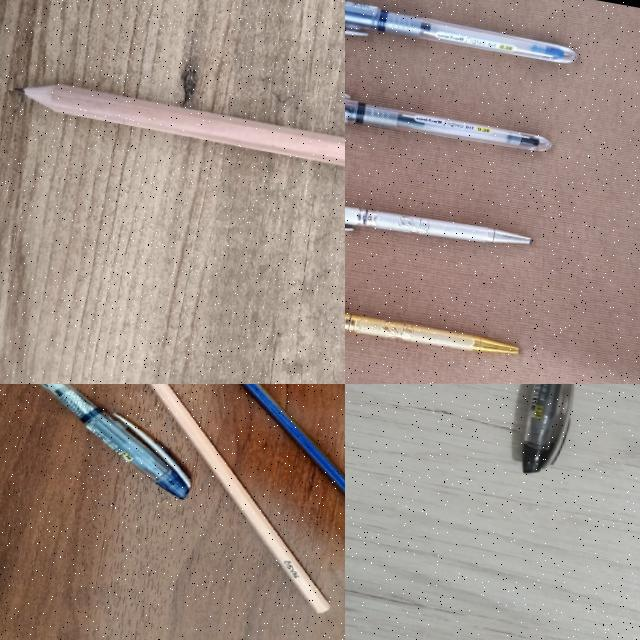pen: (0, 384, 206, 497), (345, 69, 556, 158), (345, 0, 577, 75), (522, 384, 574, 473)
pencil: (148, 384, 328, 612), (17, 86, 344, 166), (241, 384, 345, 495)
signature pen: (345, 177, 533, 265), (345, 281, 518, 361)
